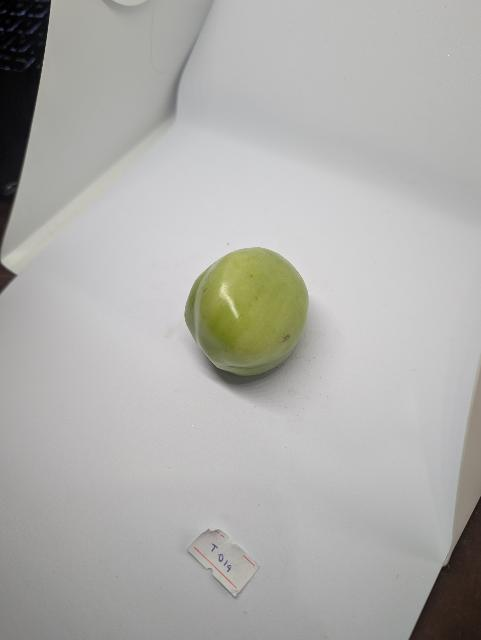green: (184, 241, 314, 382)
